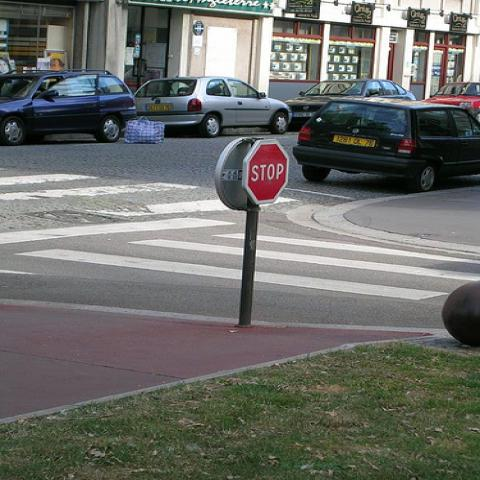car: (294, 94, 479, 191), (0, 68, 143, 149), (134, 78, 295, 135), (280, 80, 417, 120), (422, 82, 479, 114)
